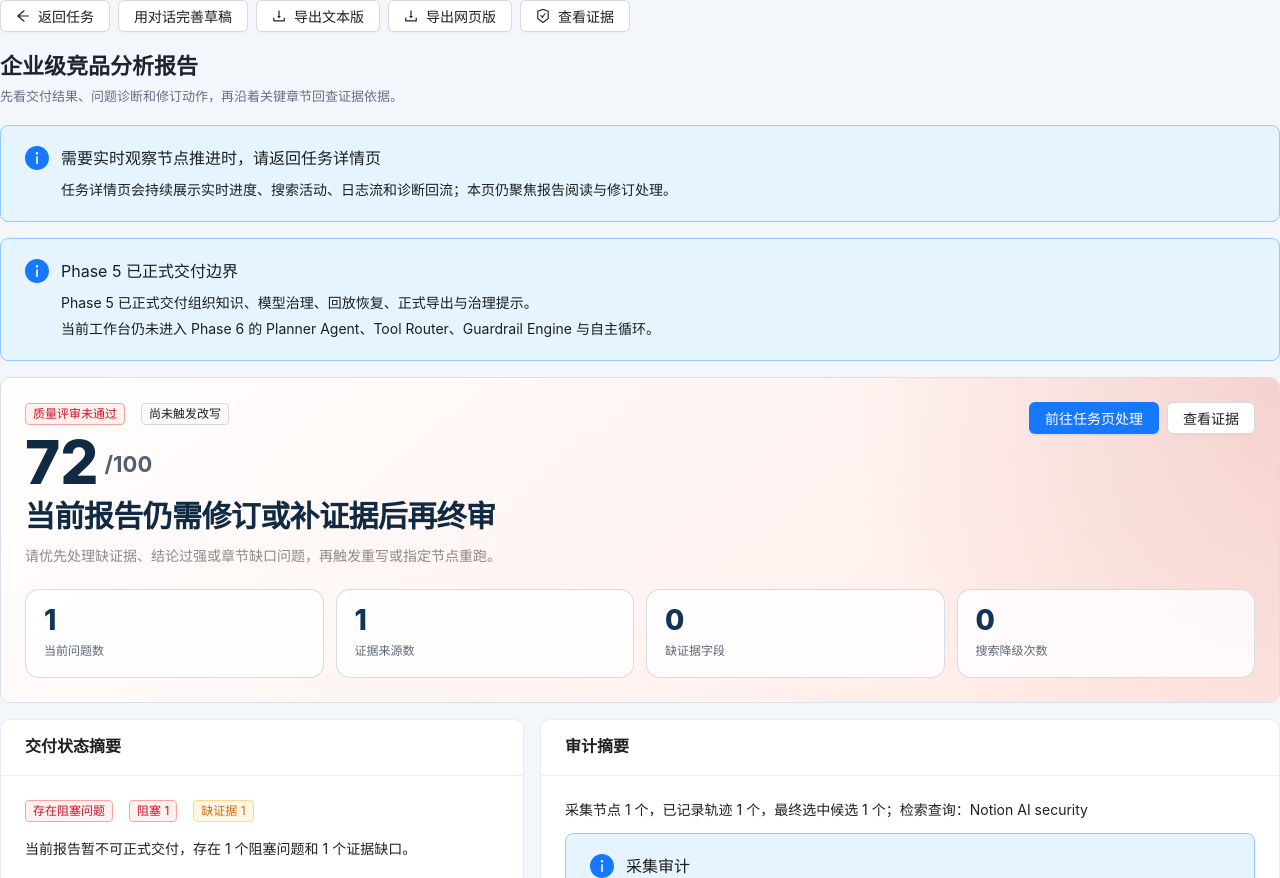
Scenario: ReportPage › opens the unified conversation entry with report reading context
Expected: the heading "企业级竞品分析报告" is shown, left=0, top=50, right=198, bottom=80
Click the button "用对话完善草稿" at (183,16), box left=118, top=0, right=248, bottom=32
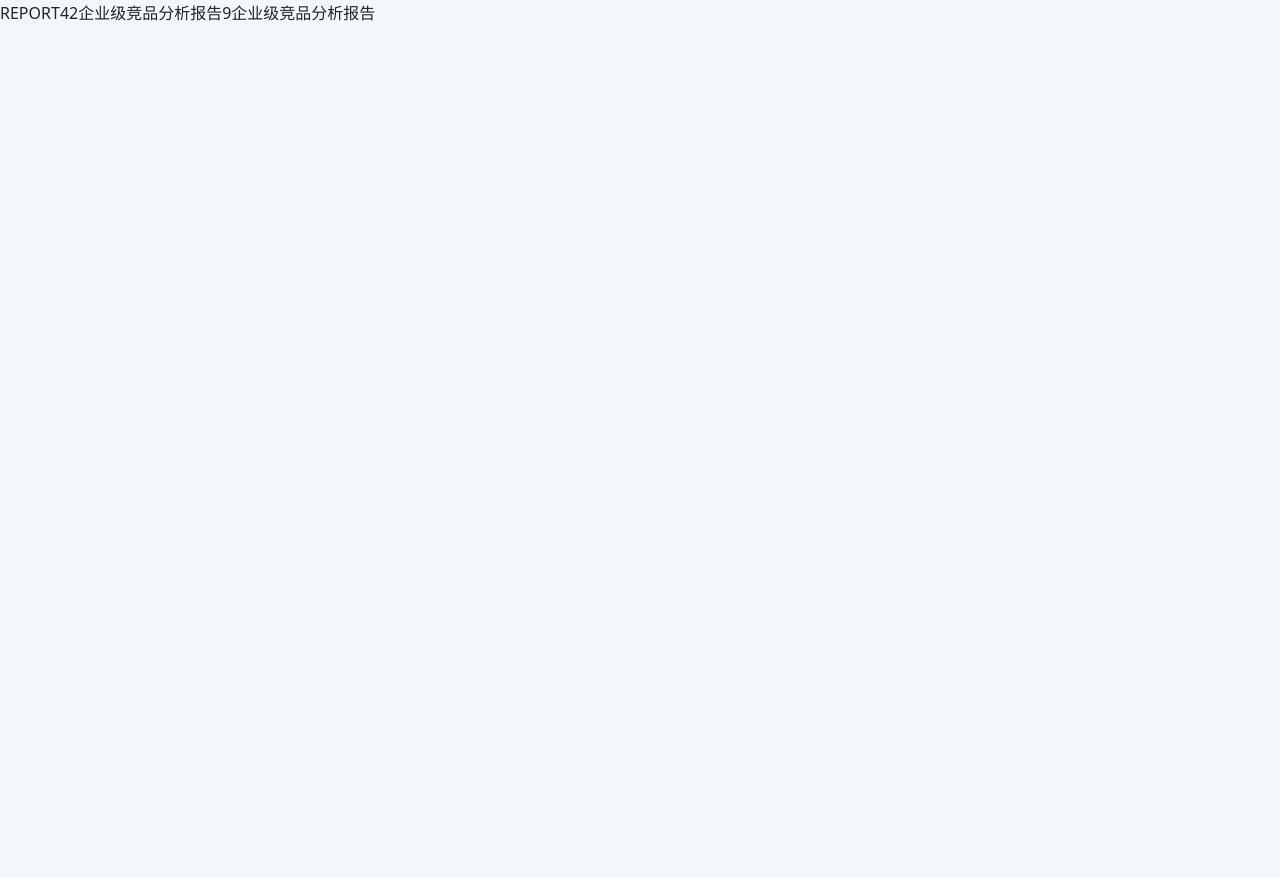
Result: the text with test id "conversation-page-type" reads "REPORT" at left=0, top=2, right=60, bottom=24
Result: the text with test id "conversation-task-id" reads "42" at left=60, top=2, right=78, bottom=24
Result: the text with test id "conversation-report-id" reads "9" at left=222, top=2, right=231, bottom=24
